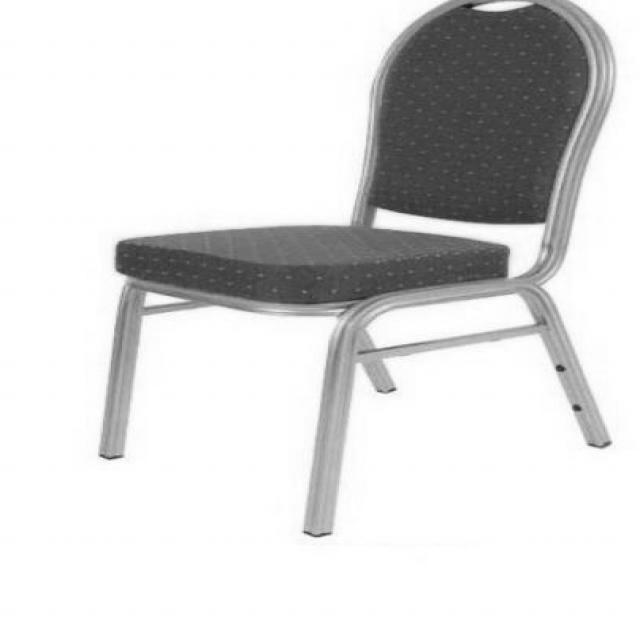chair: (90, 1, 618, 542)
